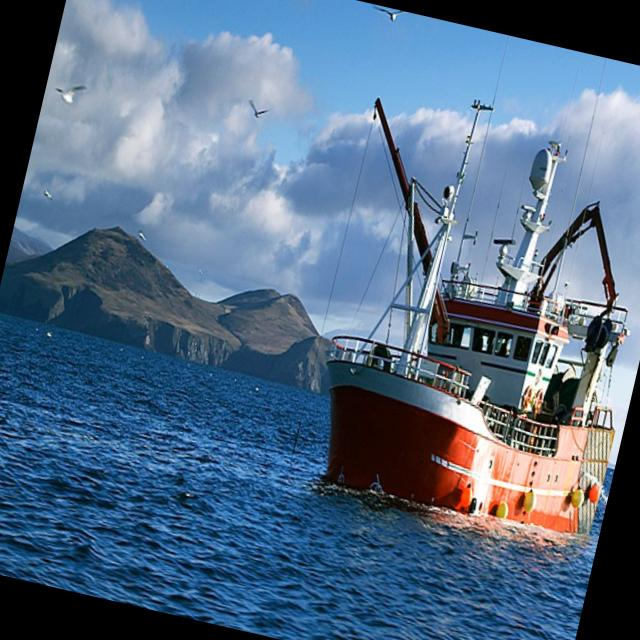boat: (252, 25, 640, 591)
